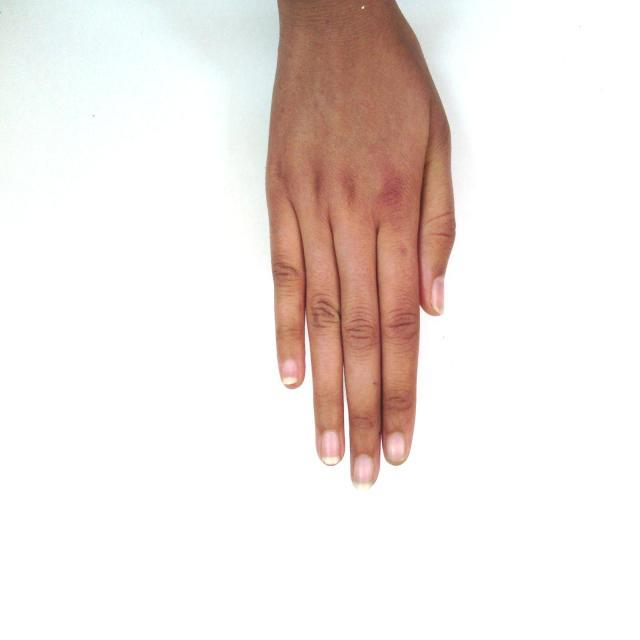Fingernail: (353, 455, 373, 490), (385, 432, 406, 463), (321, 430, 340, 464), (281, 359, 299, 385), (432, 277, 445, 313)
